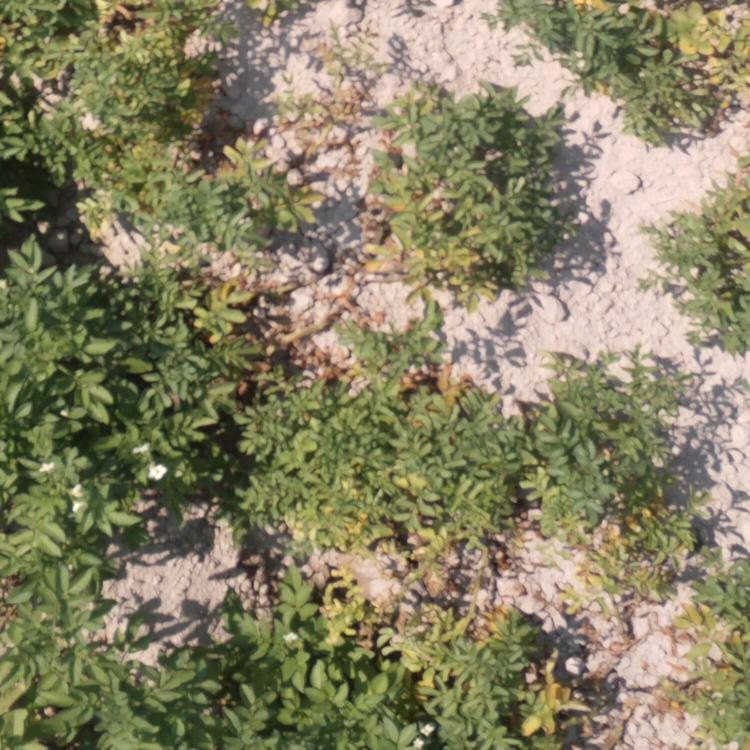healthy: (1, 247, 188, 460), (3, 473, 121, 750), (126, 608, 320, 750), (224, 415, 522, 473), (667, 197, 750, 379), (540, 362, 641, 442), (1, 137, 58, 221)
stressed: (315, 482, 578, 750), (203, 274, 465, 407), (381, 90, 565, 260), (1, 1, 247, 123), (97, 131, 316, 238), (549, 1, 750, 103), (580, 452, 709, 591), (664, 589, 750, 742), (309, 56, 380, 135)
